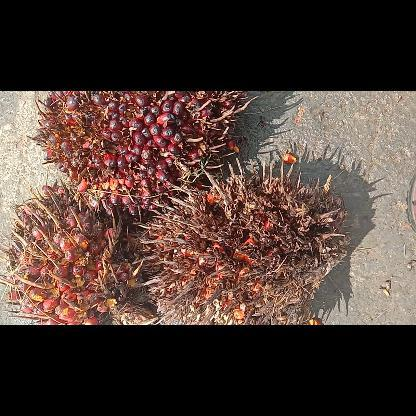TBS masak: (26, 90, 258, 214), (0, 178, 157, 325)
Terlalu masak: (132, 158, 344, 324)
